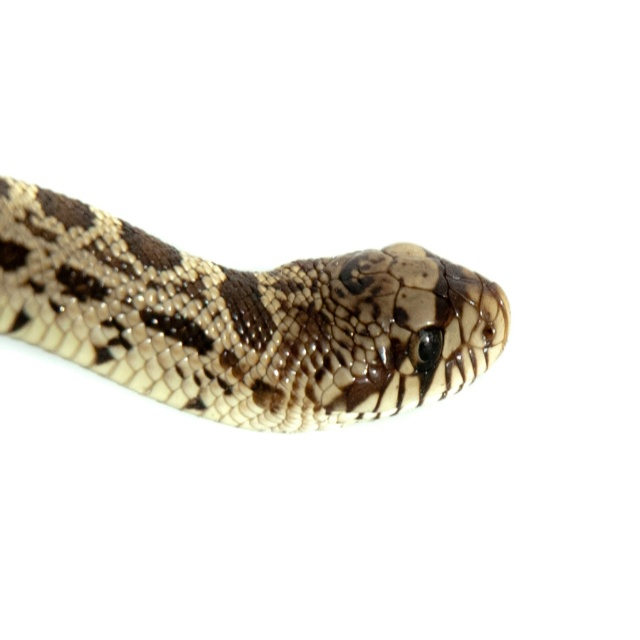Snake: (0, 170, 512, 440), (0, 168, 509, 433)
